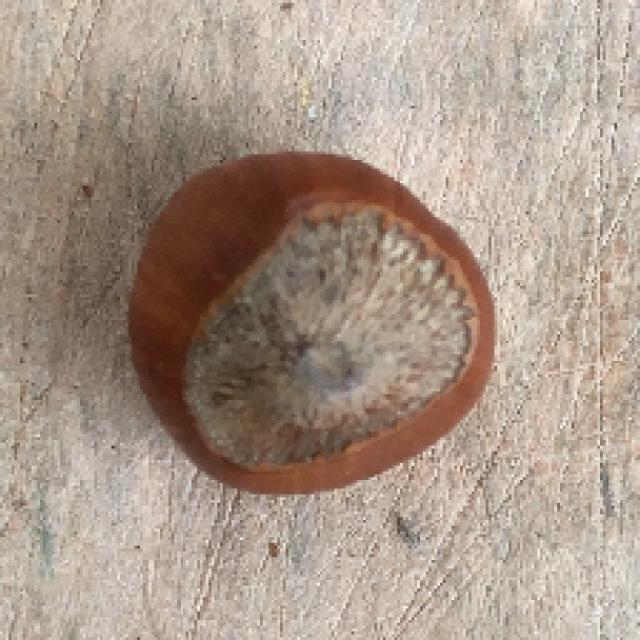qualityHazelnut: (119, 145, 502, 508)
